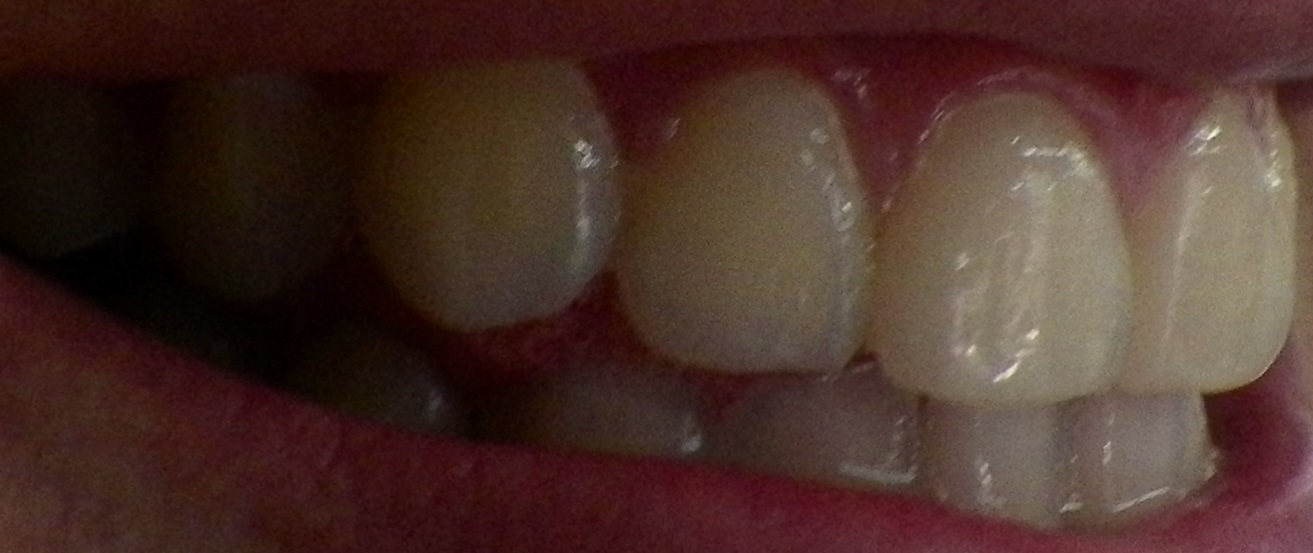boca: (27, 83, 1305, 523)
